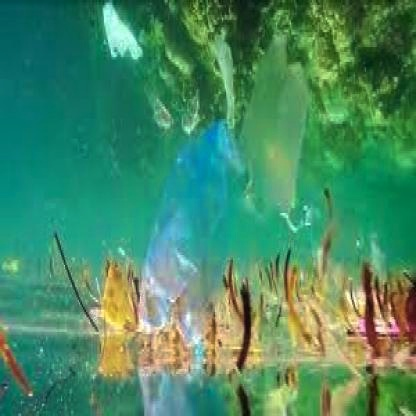pbag: (137, 116, 251, 359), (238, 35, 308, 218)
